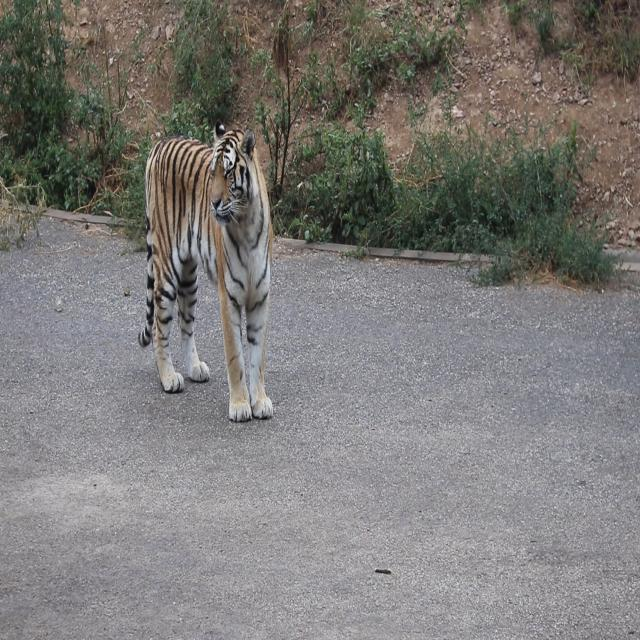Tiger: (122, 122, 296, 432)
